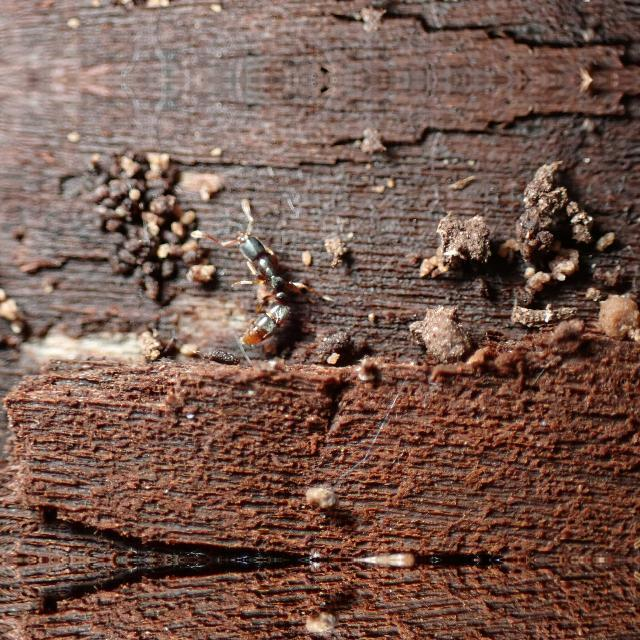Ponera: (194, 196, 320, 364)
